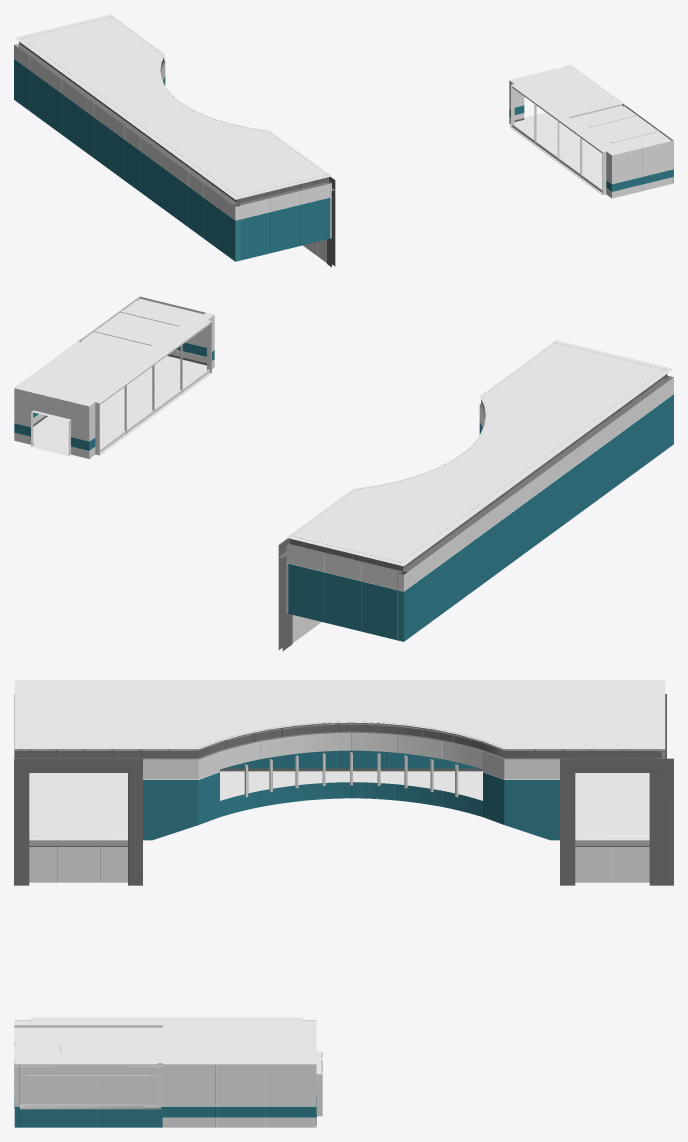
3 views of the same model, one above another, from view 1: azimuth 30°, elevation 25°; view 2: azimuth 150°, elevation 25°; view 3: azimuth 270°, elevation 25° (orthographic). The views are drawn at different scales.
Visible parts, largest first — view 1: SM_H_Building_FutureTech_HOrange_01_InterWall_02; view 2: SM_H_Building_FutureTech_HOrange_01_InterWall_02; view 3: SM_H_Building_FutureTech_HOrange_01_InterWall_02.
Part boxes in pixels (x1,y1,x2,y2): SM_H_Building_FutureTech_HOrange_01_InterWall_02: [14, 14, 673, 267]; SM_H_Building_FutureTech_HOrange_01_InterWall_02: [14, 296, 673, 651]; SM_H_Building_FutureTech_HOrange_01_InterWall_02: [14, 680, 673, 1127].
Size of the model in its own units: 1309 by 1477 by 293.
